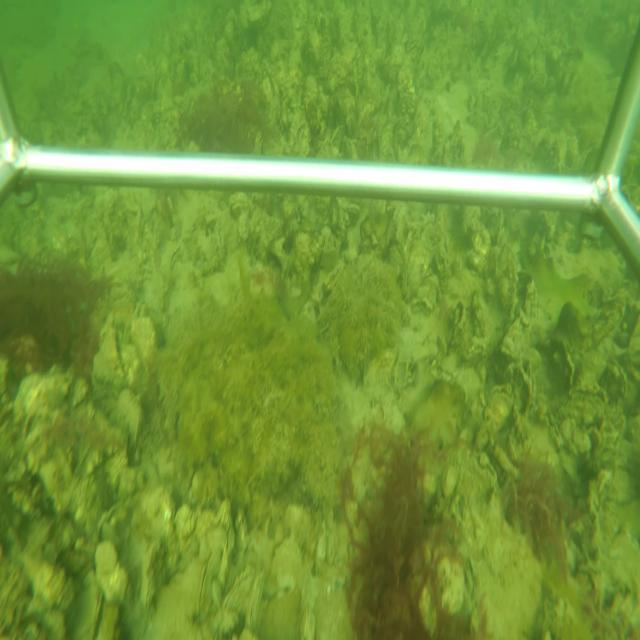Oyster-Closed: (218, 569, 250, 624), (245, 570, 266, 633), (194, 560, 211, 620)
